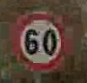limite 60: (11, 9, 69, 74)
